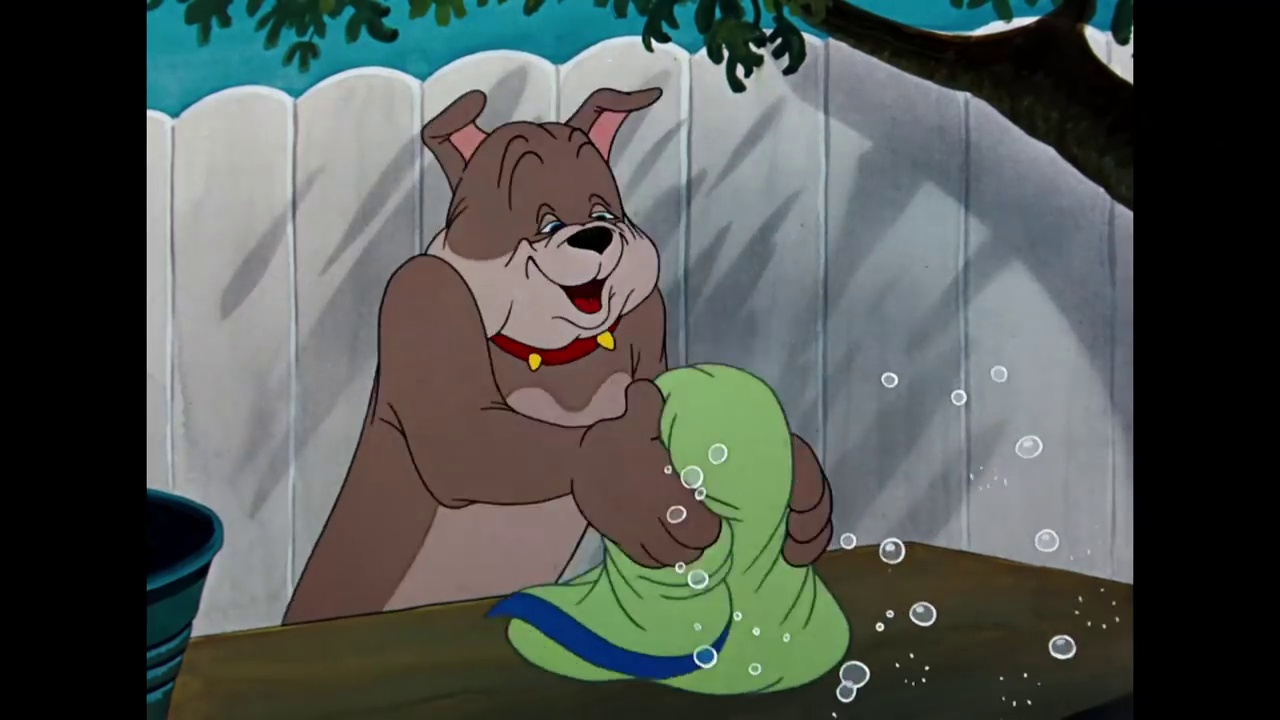spike: (412, 79, 671, 369)
